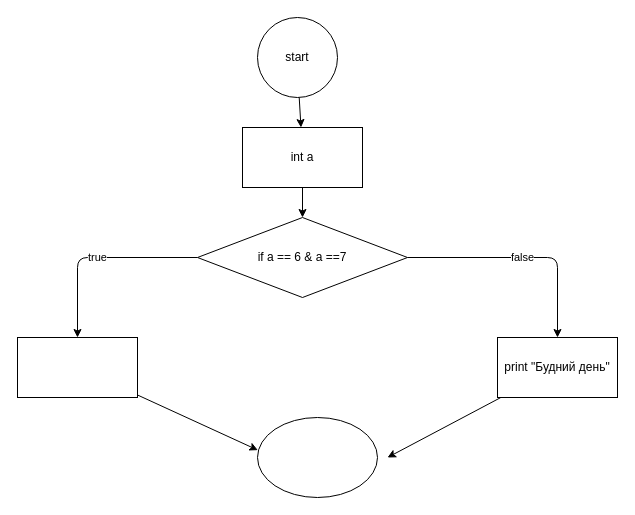
This 635x515 diagram has some shape labels left out. The centre of each missing label's shape, as x and y in pixels:
end: pixel 317 457
print "выходной день": pixel 77 367
